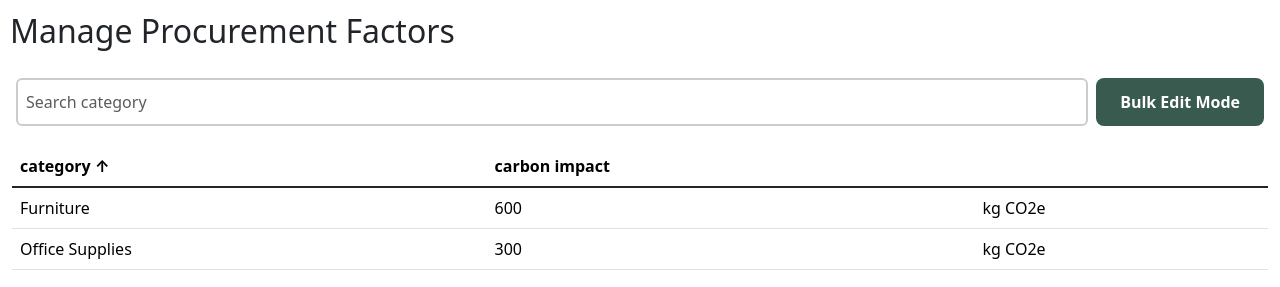
Scenario: ProcurementTable Component › filters procurement factors based on search query
In the field with placeholder "Search category": {"x": 552, "y": 102} [16,78,1088,126], type "Furniture"
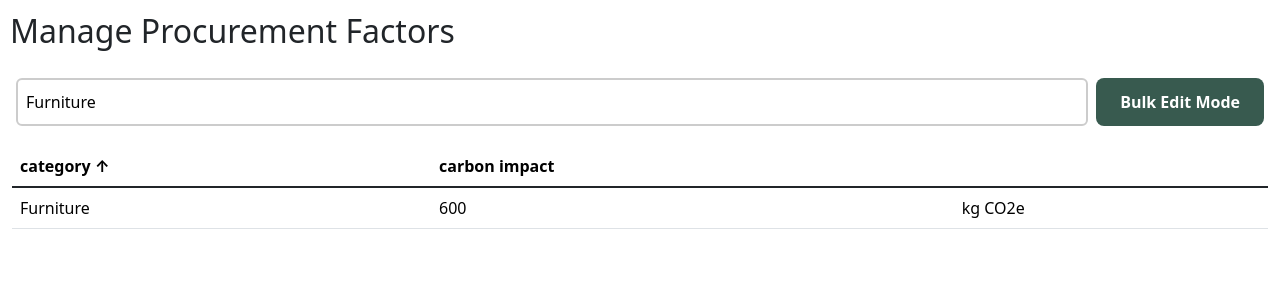
Expected: the text "Furniture" is shown, [12,187,431,229]
Result: the text "Office Supplies" is gone
